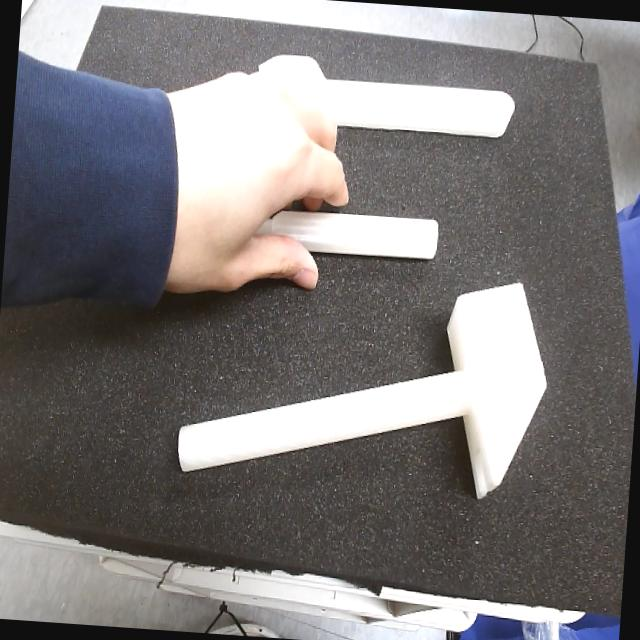Hammer: (175, 283, 546, 500)
